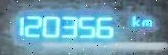0: (42, 15, 59, 38)
1: (17, 14, 23, 39)
2: (24, 14, 41, 37)
3: (60, 14, 76, 37)
5: (78, 14, 95, 37)
6: (96, 15, 114, 38)
X: (130, 14, 140, 27), (140, 18, 151, 27)
